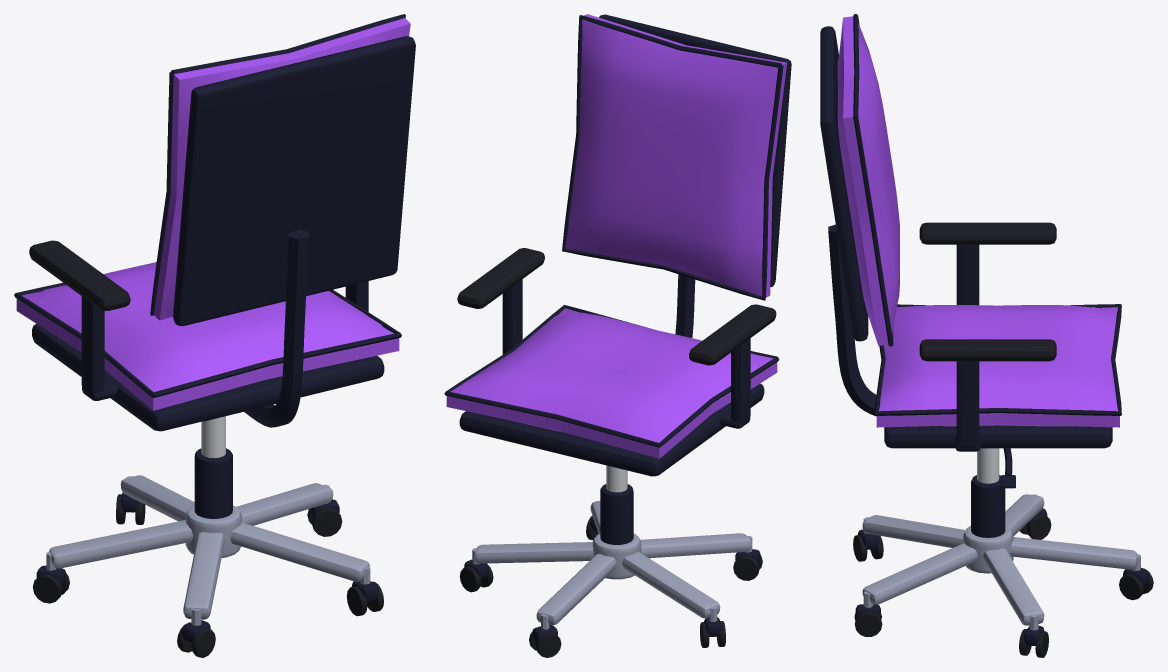
The model's file is chair.glb.
3 renders of one model, left to right at view 1: azimuth 30°, elevation 25°; view 2: azimuth 150°, elevation 25°; view 3: azimuth 270°, elevation 25°, orthographic. The views are drawn at different scales.
Visible parts, largest first — view 1: Body; view 2: Body; view 3: Body.
Part boxes in pixels (x1,y1,x2,y2): Body: (14, 14, 415, 657); Body: (444, 14, 791, 657); Body: (820, 14, 1153, 657).
Bounding box in the file's own units: 0.6215 × 1.16 × 0.6573.
